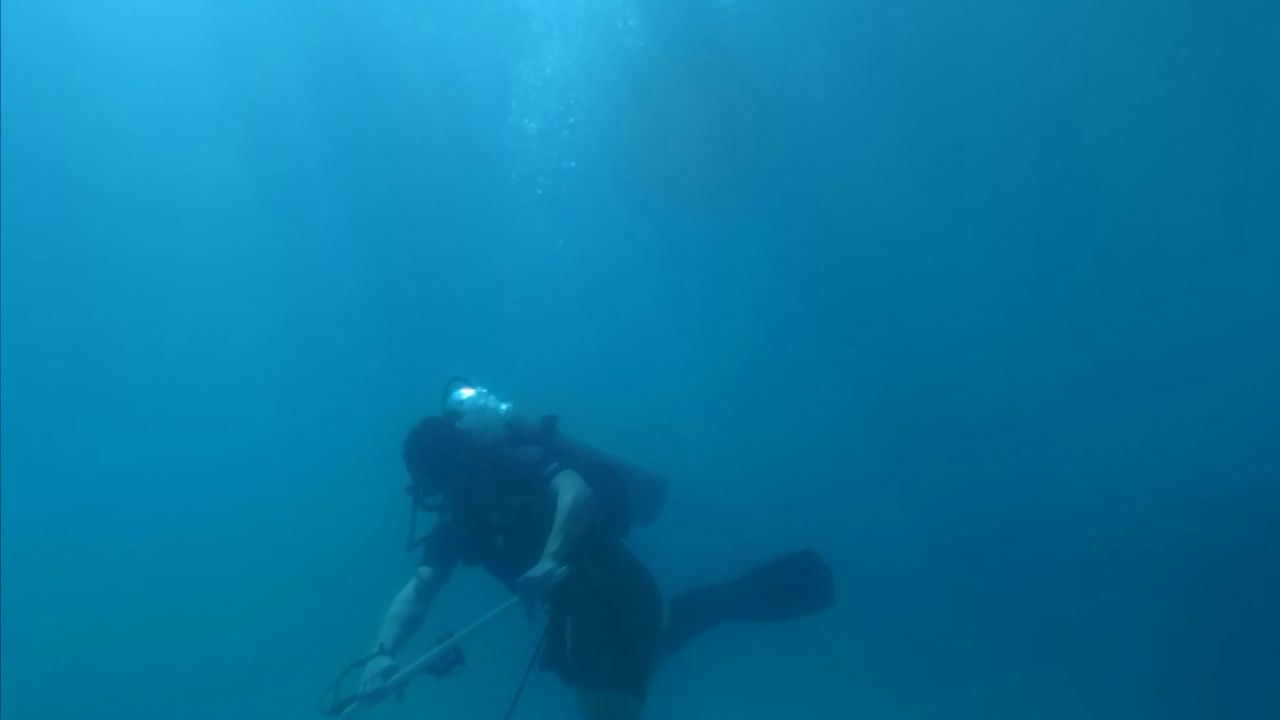Diver: (306, 392, 840, 708)
